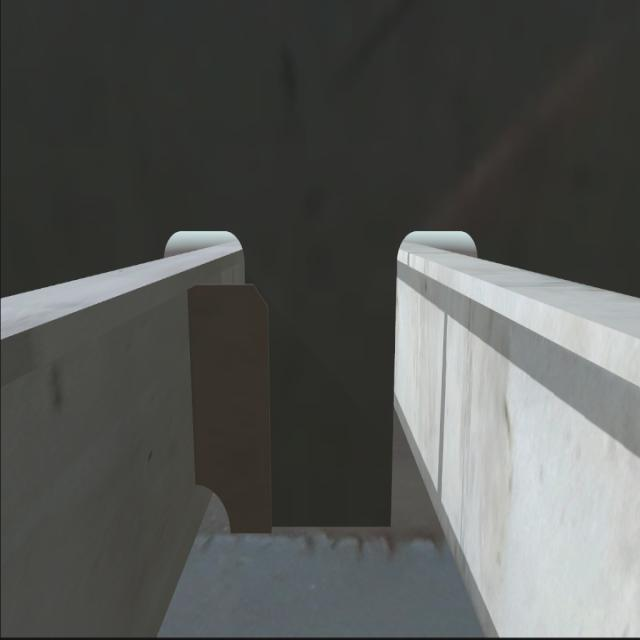fillet_hole: (196, 489, 230, 534)
fillet_yong_jeop_jang: (231, 513, 391, 536)
longi_yong_jeop_jang: (186, 288, 203, 484)
plate_CP03: (193, 286, 272, 532)
